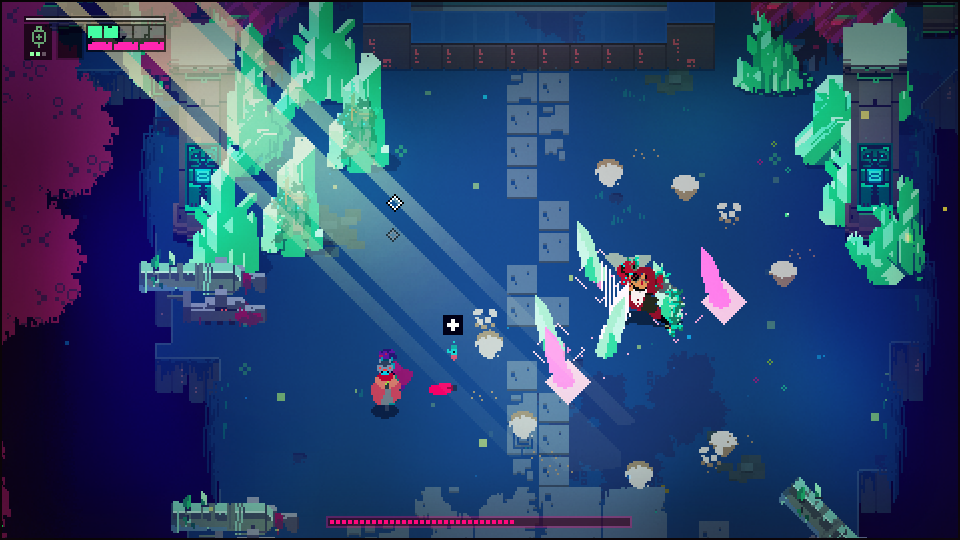hanged_crys: (575, 217, 606, 287), (699, 244, 729, 311), (542, 330, 573, 390), (527, 297, 556, 331)
hanged_man: (604, 257, 683, 335)
player: (366, 357, 403, 417)
